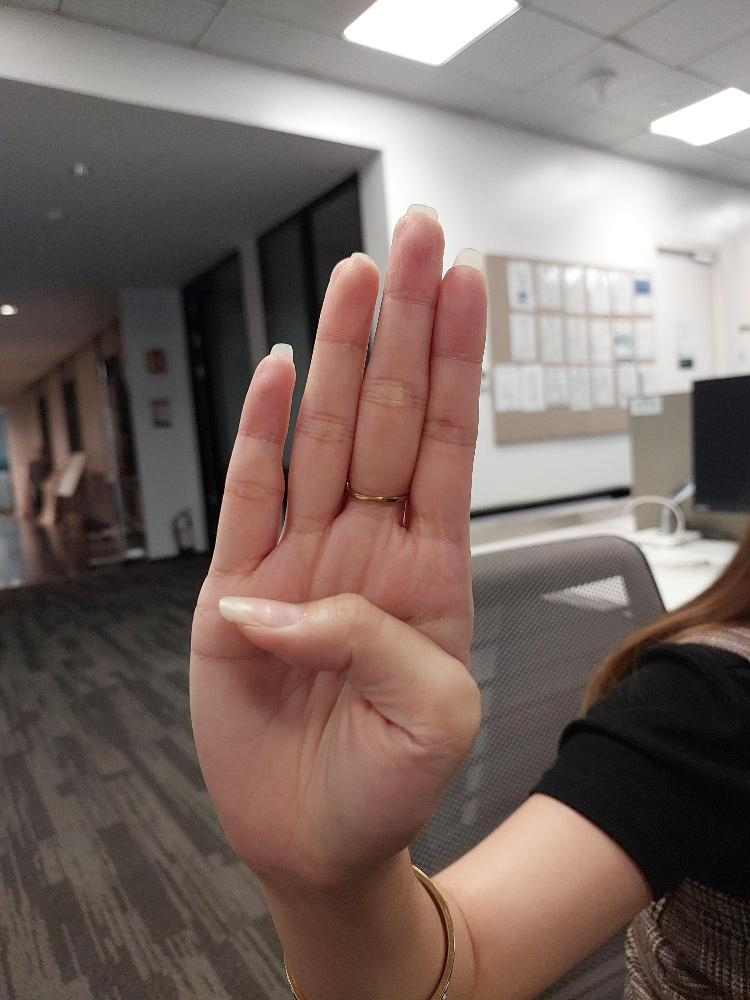b: (185, 200, 489, 891)
